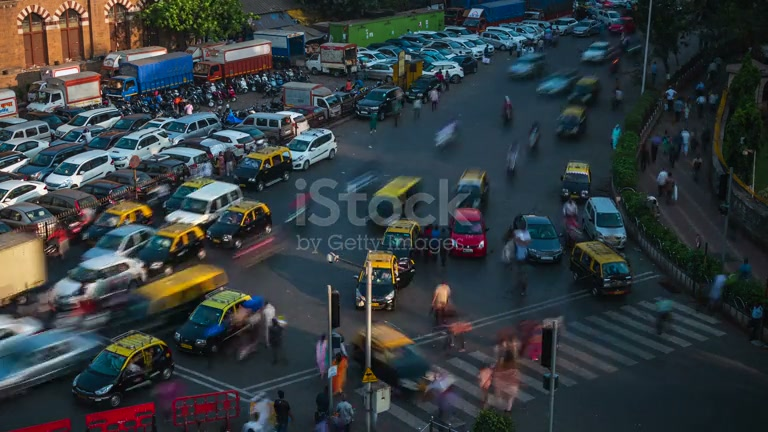bus: (102, 47, 194, 109), (191, 40, 273, 85)
car: (0, 321, 109, 402), (71, 331, 176, 409), (173, 287, 268, 356), (52, 253, 147, 314), (162, 177, 244, 229), (0, 203, 73, 260), (133, 220, 209, 274), (568, 239, 635, 297), (206, 198, 273, 250), (42, 149, 115, 191), (228, 144, 293, 191), (507, 213, 564, 265), (354, 251, 398, 312), (582, 196, 628, 250), (443, 206, 489, 259), (285, 127, 338, 172), (354, 86, 404, 120), (559, 161, 592, 201), (554, 103, 589, 140), (536, 71, 579, 97)
pedestrian: (273, 389, 292, 431)
truck: (0, 226, 51, 309)
